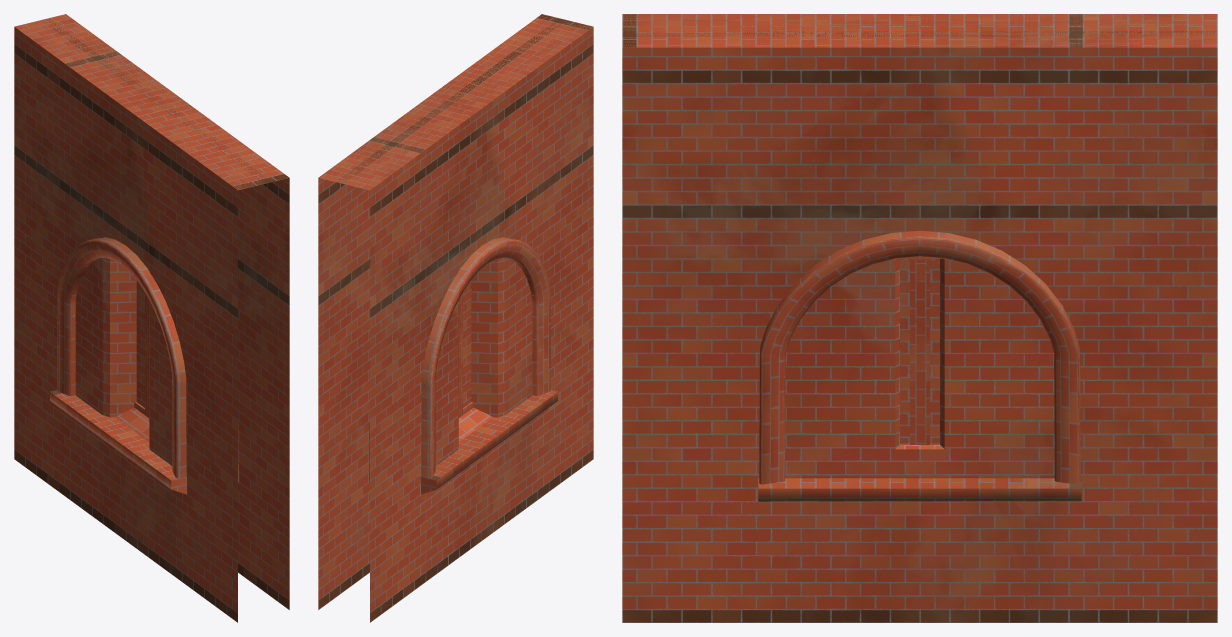
Rendered from Medieval_elements_2.fbx.
The picture shows the model from 3 angles, left to right: view 1: azimuth 30°, elevation 25°; view 2: azimuth 150°, elevation 25°; view 3: azimuth 270°, elevation 25°; orthographic projection. The views are drawn at different scales.
Visible parts, largest first — view 1: Window, LoopHole; view 2: Window, LoopHole; view 3: Window, LoopHole.
Part boxes in pixels (x1=…): Window: x1=14, y1=14, x2=289, y2=615; LoopHole: x1=14, y1=14, x2=289, y2=622; Window: x1=318, y1=14, x2=593, y2=622; LoopHole: x1=318, y1=14, x2=593, y2=621; Window: x1=622, y1=14, x2=1217, y2=622; LoopHole: x1=622, y1=14, x2=1217, y2=622.
Size of the model in its own units: 64 by 320 by 300.
